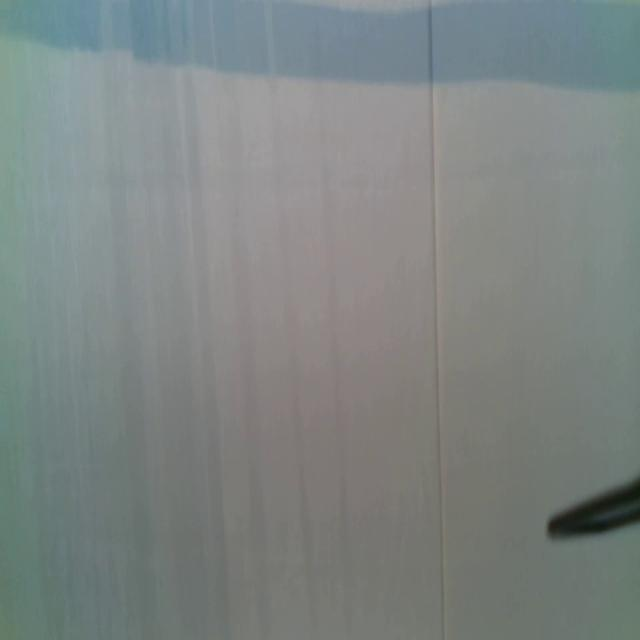color bleeding: (2, 0, 639, 102)
crease: (428, 0, 448, 640)
